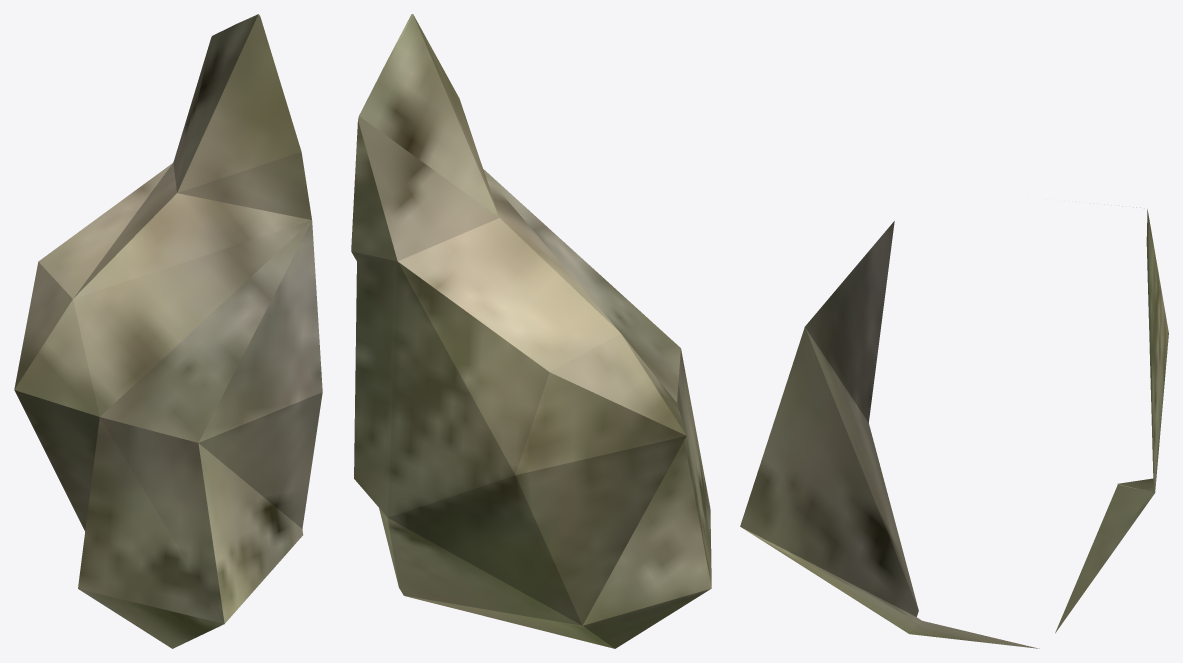
3 renders of one model, left to right at view 1: azimuth 30°, elevation 25°; view 2: azimuth 150°, elevation 25°; view 3: azimuth 270°, elevation 25°, orthographic. The views are drawn at different scales.
Bounding box in the file's own units: 0.2402 × 0.532 × 0.2951.
1 material, 1 textured.
